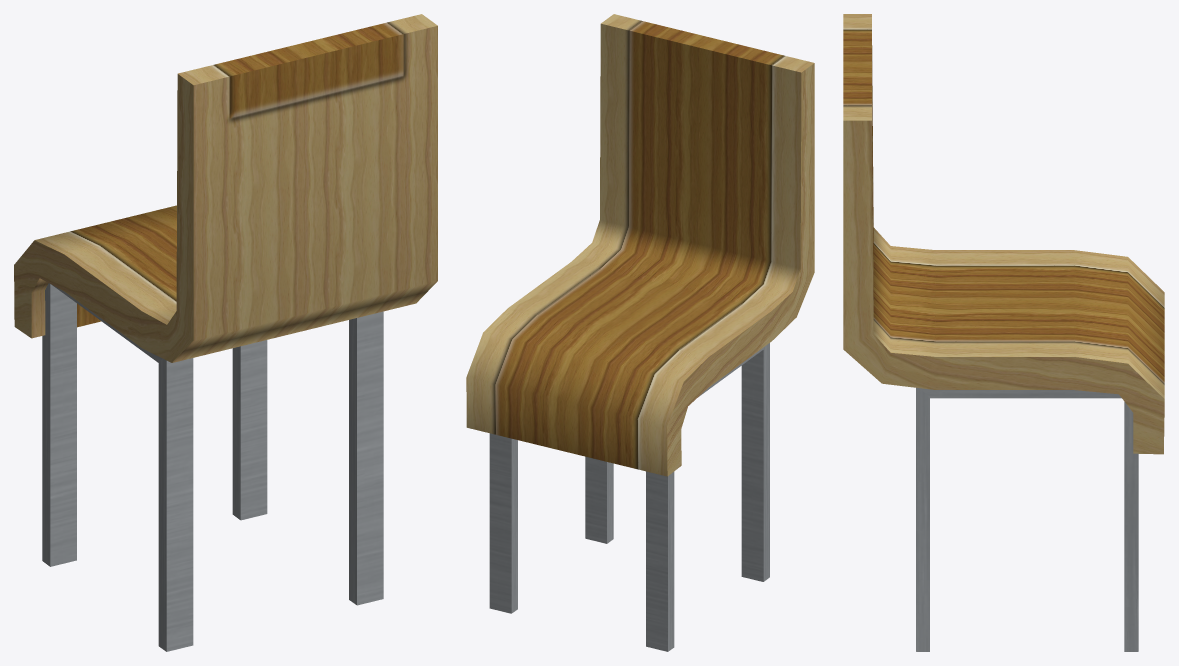
Rendered from ModKitchenChair.fbx.
The picture shows the model from 3 angles, left to right: view 1: azimuth 30°, elevation 25°; view 2: azimuth 150°, elevation 25°; view 3: azimuth 270°, elevation 25°; orthographic projection. The views are drawn at different scales.
Visible parts, largest first — view 1: modkitchenchair; view 2: modkitchenchair; view 3: modkitchenchair.
Boxes of the visible parts, box(x1,y1,x2,y2) form: modkitchenchair: box(14, 14, 437, 651); modkitchenchair: box(466, 14, 814, 651); modkitchenchair: box(843, 14, 1164, 651).
Size of the model in its own units: 1 by 2.35 by 1.27.
1 material, 1 textured.
